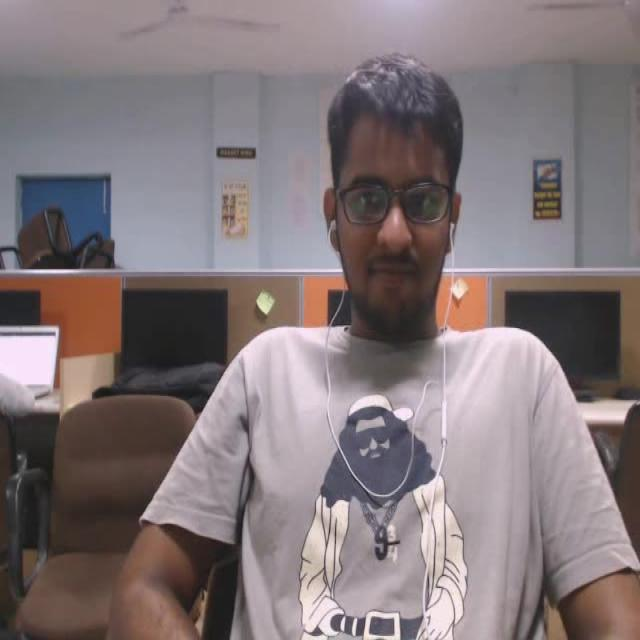Engaged: (310, 41, 502, 344)
